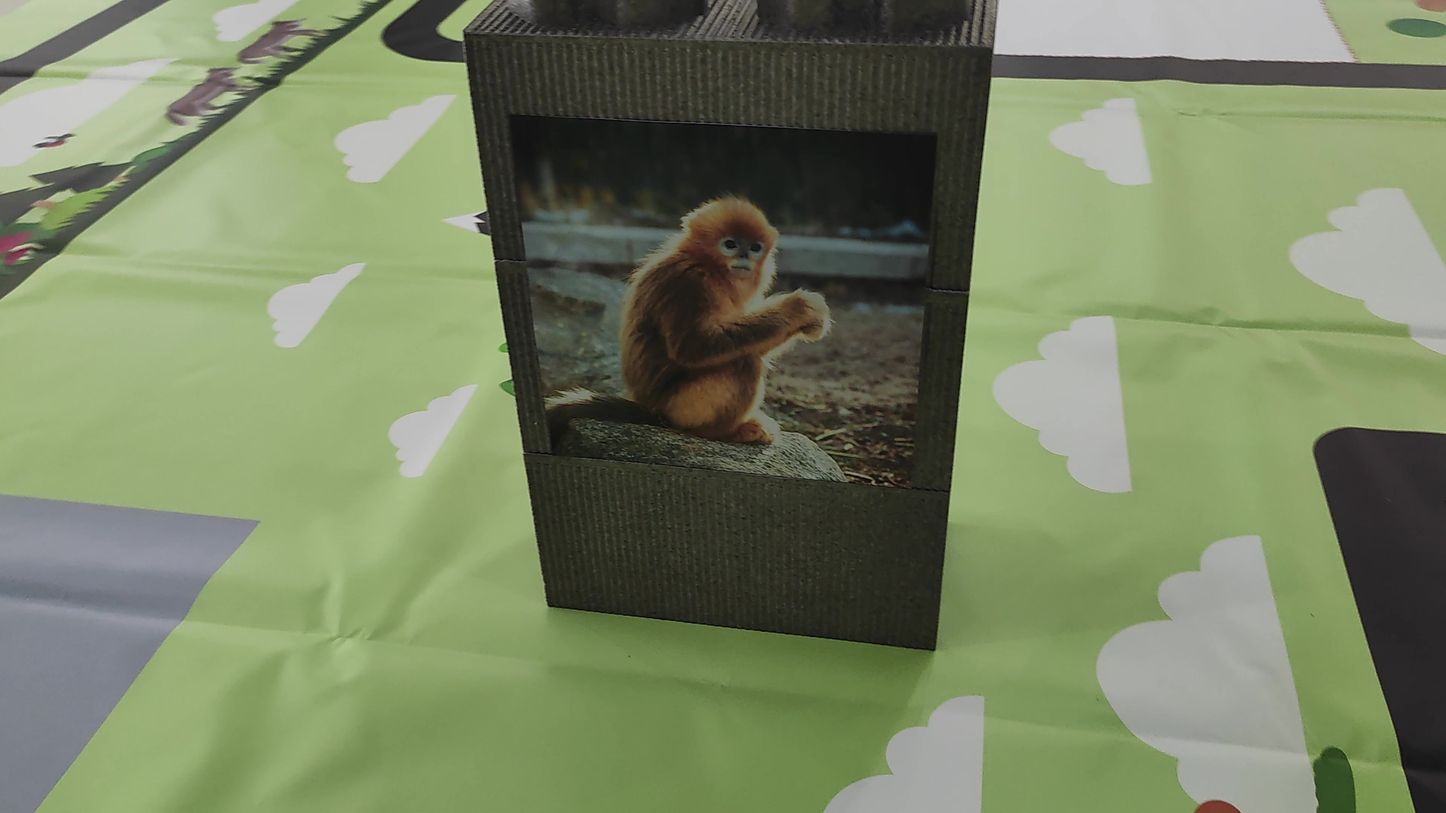monkey: (558, 165, 845, 432)
